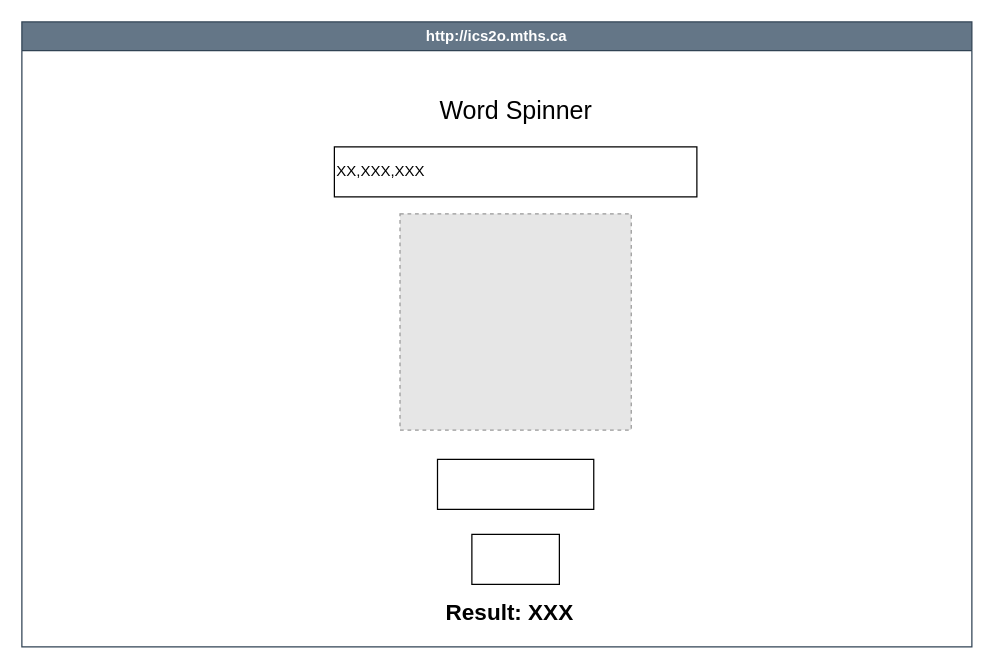
Image size: 994x669. Some labels were removed from this diagram. Grey dashed boxes stand in for pictures. Each missing label, with the box of its shape:
Create Spinner: (436, 458, 594, 509)
Spin: (471, 533, 559, 584)
